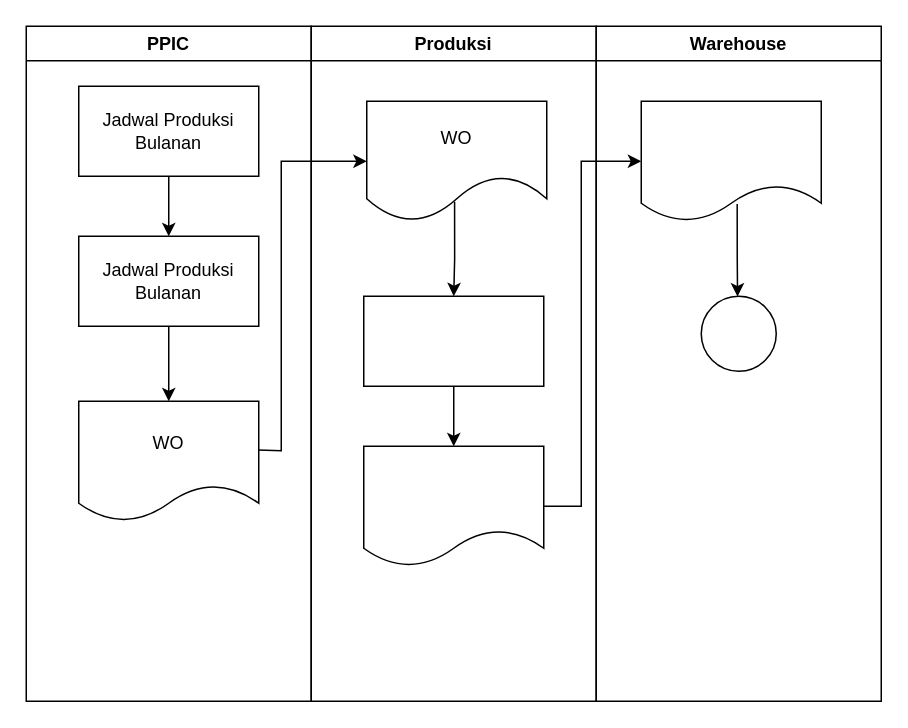
Image size: 908x728. Some labels were removed from this diagram. Each missing label, with the centre of its shape:
create Material Request: (x=453, y=340)
end: (x=738, y=333)
Material Request: (x=453, y=505)
MR: (x=730, y=160)
